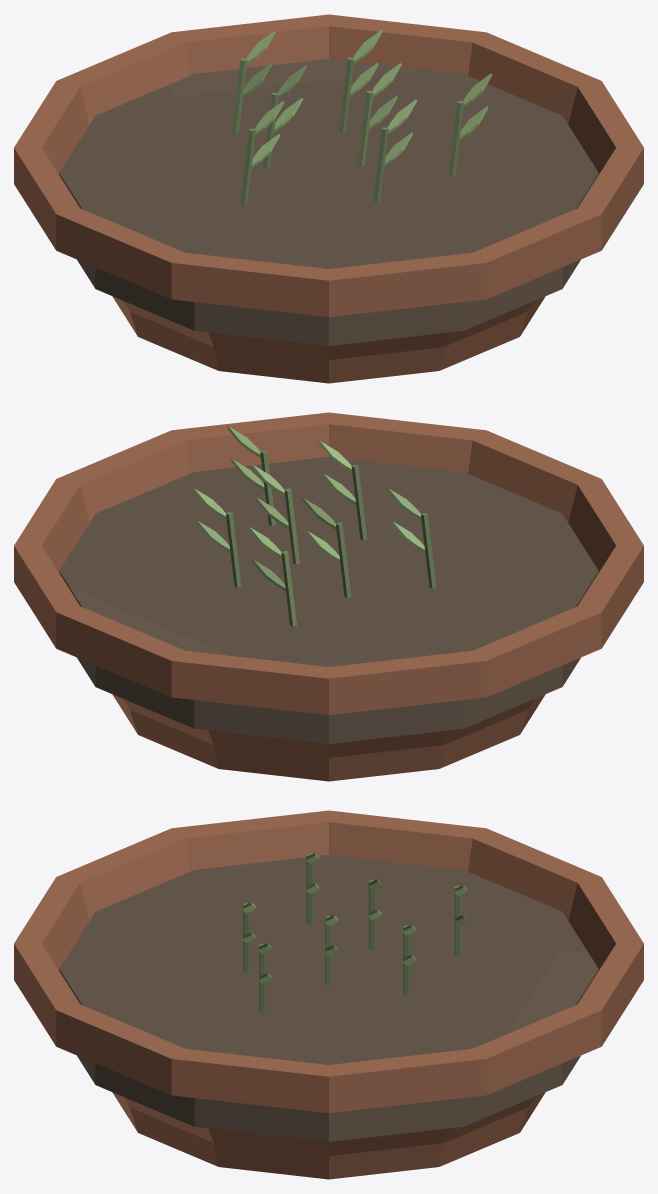
File: moss-scoparium.glb
3 renders of one model, top to bottom at view 1: azimuth 30°, elevation 25°; view 2: azimuth 150°, elevation 25°; view 3: azimuth 270°, elevation 25°, orthographic.
Visible parts, largest first — view 1: moss-scoparium/review-rooted-soil, moss-scoparium/review-terra-vessel, moss-scoparium/moss-stem-011, moss-scoparium/moss-stem-001, moss-scoparium/moss-stem-021, moss-scoparium/moss-stem-016, moss-scoparium/moss-stem-031, moss-scoparium/moss-stem-026; view 2: moss-scoparium/review-rooted-soil, moss-scoparium/review-terra-vessel, moss-scoparium/moss-stem-006, moss-scoparium/moss-stem-001, moss-scoparium/moss-stem-016, moss-scoparium/moss-stem-031, moss-scoparium/moss-stem-011, moss-scoparium/moss-stem-021; view 3: moss-scoparium/review-rooted-soil, moss-scoparium/review-terra-vessel.
Part boxes in pixels (left/top/right/bottom): moss-scoparium/review-rooted-soil: left=59, top=58, right=598, bottom=345; moss-scoparium/review-terra-vessel: left=14, top=14, right=643, bottom=383; moss-scoparium/moss-stem-011: left=373, top=127, right=388, bottom=202; moss-scoparium/moss-stem-001: left=358, top=90, right=373, bottom=166; moss-scoparium/moss-stem-021: left=240, top=128, right=255, bottom=203; moss-scoparium/moss-stem-016: left=339, top=57, right=354, bottom=132; moss-scoparium/moss-stem-031: left=232, top=58, right=247, bottom=133; moss-scoparium/moss-stem-026: left=448, top=101, right=463, bottom=176; moss-scoparium/review-rooted-soil: left=59, top=456, right=598, bottom=743; moss-scoparium/review-terra-vessel: left=14, top=412, right=643, bottom=781; moss-scoparium/moss-stem-006: left=335, top=522, right=351, bottom=597; moss-scoparium/moss-stem-001: left=284, top=488, right=299, bottom=564; moss-scoparium/moss-stem-016: left=226, top=512, right=241, bottom=587; moss-scoparium/moss-stem-031: left=281, top=551, right=296, bottom=626; moss-scoparium/moss-stem-011: left=351, top=465, right=367, bottom=540; moss-scoparium/moss-stem-021: left=421, top=512, right=436, bottom=588; moss-scoparium/review-rooted-soil: left=59, top=854, right=598, bottom=1141; moss-scoparium/review-terra-vessel: left=14, top=810, right=643, bottom=1179.
Bounding box in the file's own units: 0.25 × 0.0909 × 0.25.
Materials: 3 (3 with a texture image).
